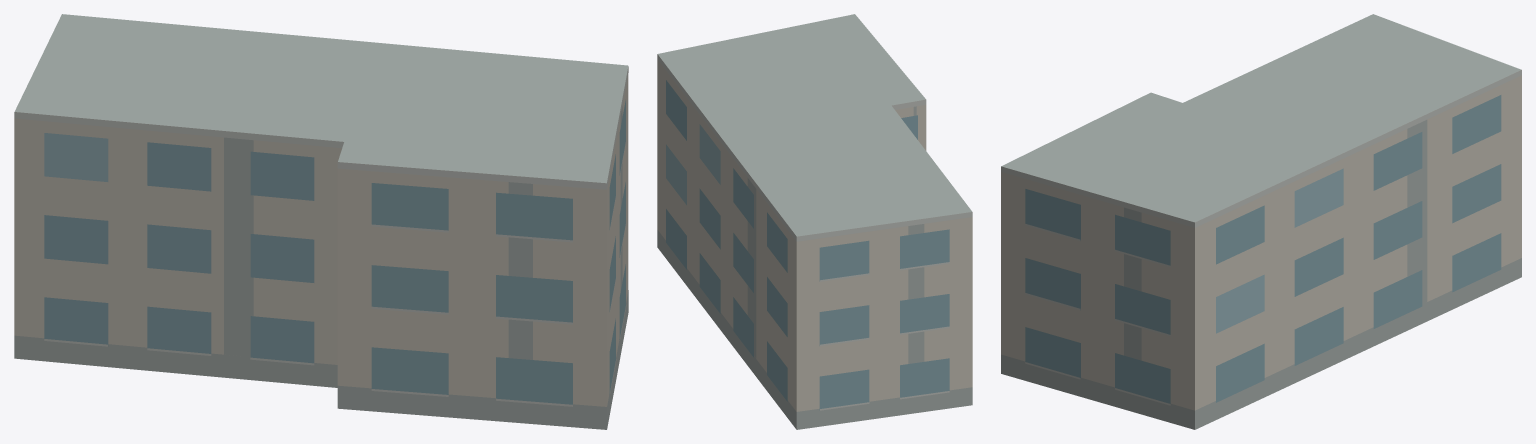
Rendered from survey-upis-32908071.glb.
3 renders of one model, left to right at view 1: azimuth 30°, elevation 25°; view 2: azimuth 150°, elevation 25°; view 3: azimuth 270°, elevation 25°, orthographic. The views are drawn at different scales.
Visible parts, largest first — view 1: survey-upis-32908071.tmp; view 2: survey-upis-32908071.tmp; view 3: survey-upis-32908071.tmp.
Part boxes in pixels (left/top/right/bottom): survey-upis-32908071.tmp: left=14, top=14, right=628, bottom=429; survey-upis-32908071.tmp: left=657, top=14, right=972, bottom=429; survey-upis-32908071.tmp: left=1001, top=14, right=1521, bottom=429.
Size of the model in its own units: 19.73 by 9.15 by 20.83.
